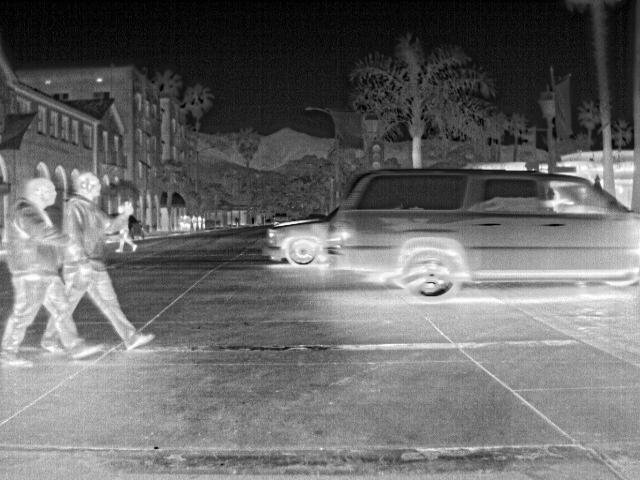car: (325, 166, 635, 301), (261, 207, 339, 268)
person: (0, 178, 102, 368), (62, 168, 155, 352), (113, 227, 140, 255), (114, 204, 126, 218)
